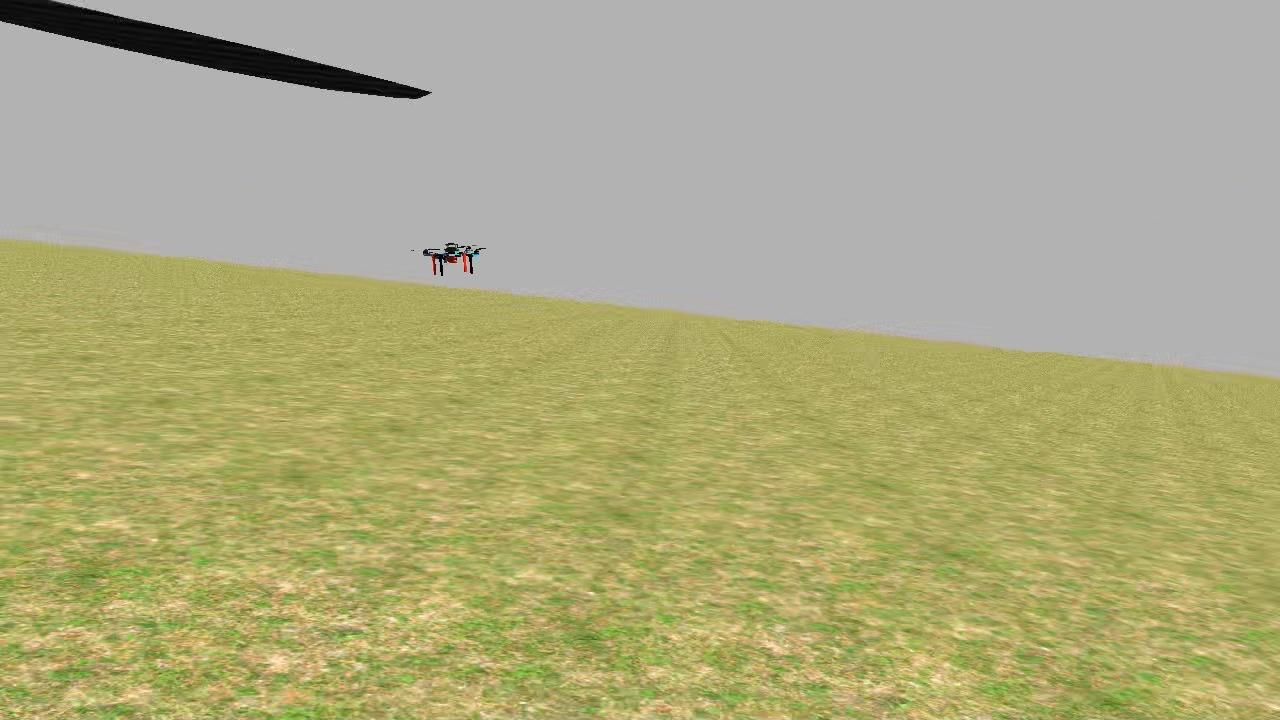UAV: (414, 232, 483, 284)
